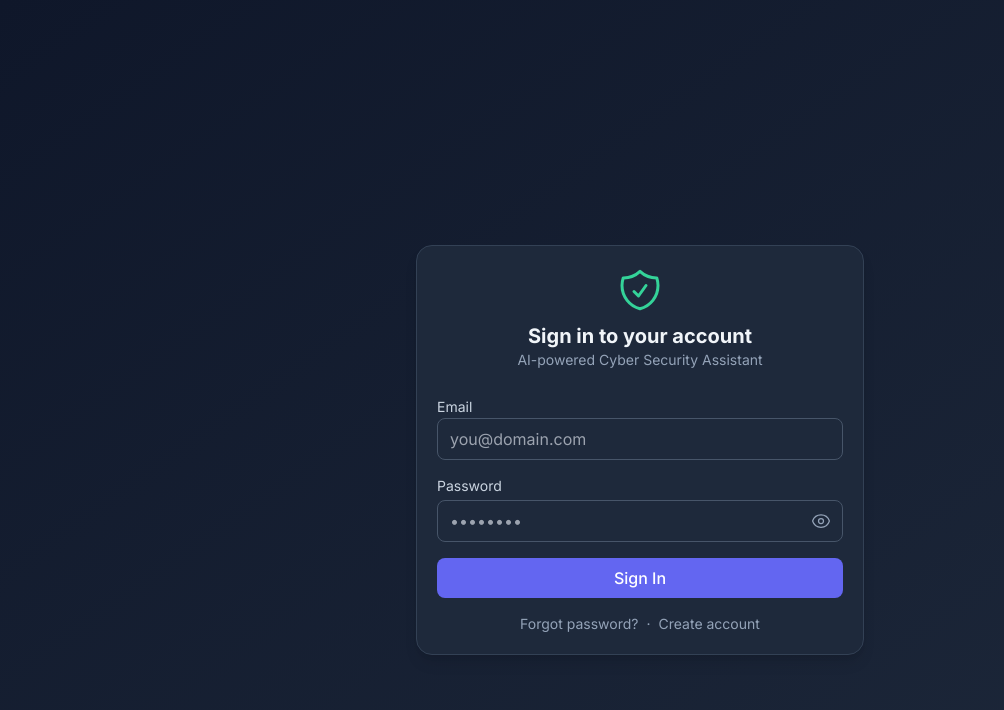
Login Page › shows error on failed login
Type "wrong@example.com" into the field labelled "Email" at (640, 439), box x1=437 y1=418 x2=843 y2=460
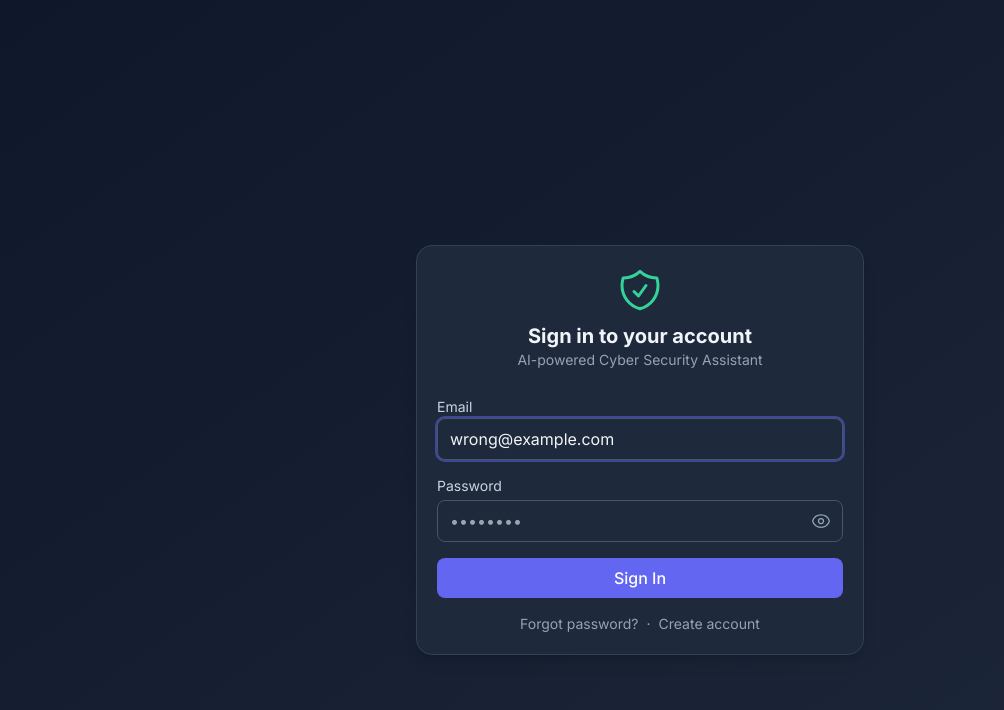
Type "wrongpassword" into the password field labelled "Password" at (640, 521), box x1=437 y1=500 x2=843 y2=542
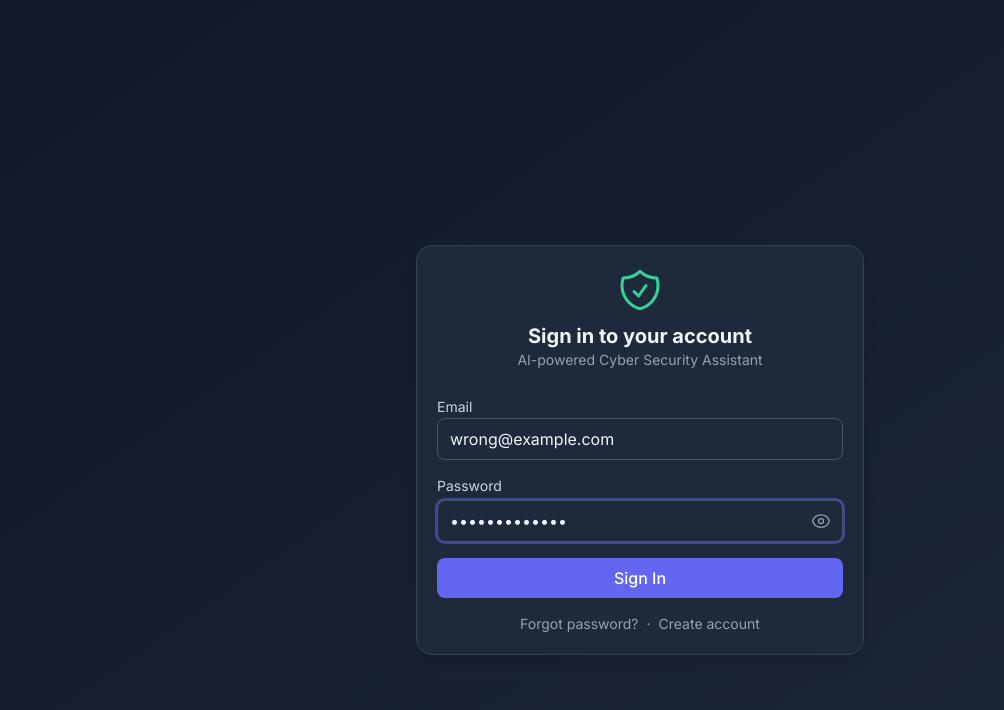
Click the button "Sign In" at (640, 578), box x1=437 y1=558 x2=843 y2=598
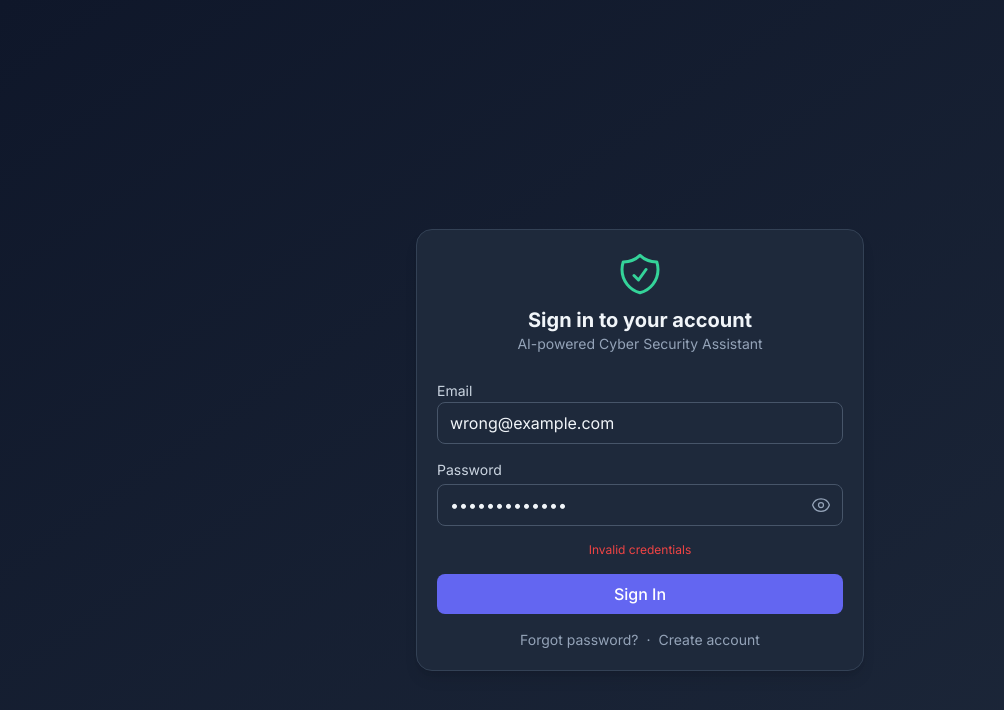
Check: the text "Invalid credentials" is shown, box x1=589 y1=542 x2=691 y2=557
